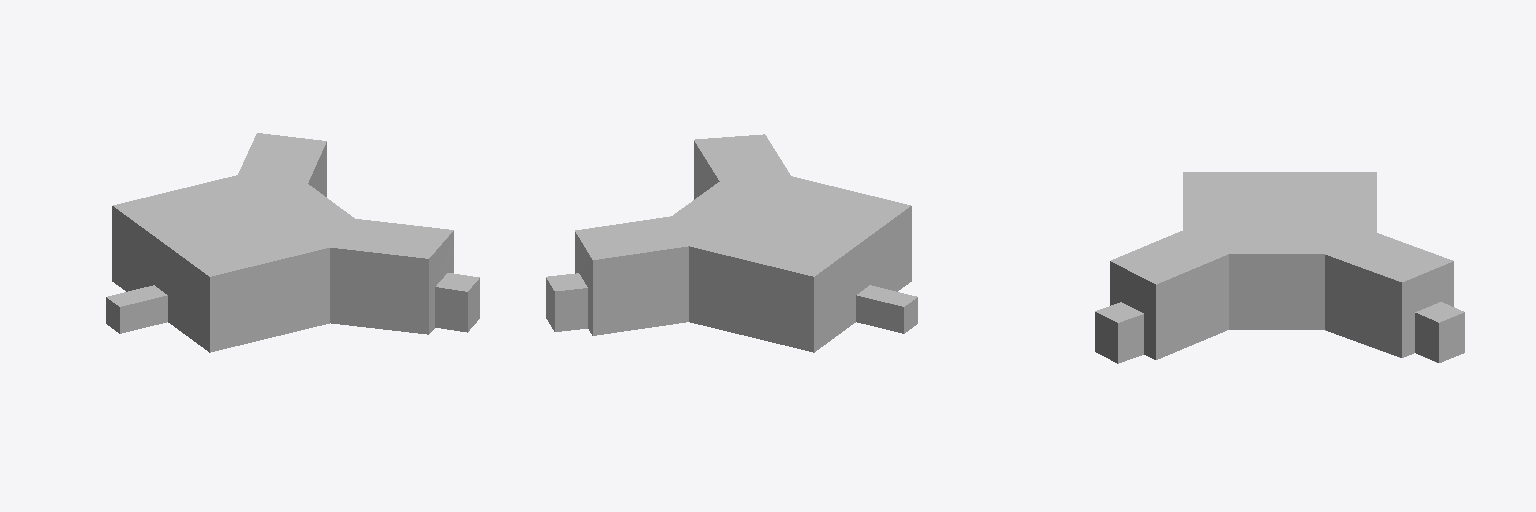
3 views of the same model, side by side, from view 1: azimuth 30°, elevation 25°; view 2: azimuth 150°, elevation 25°; view 3: azimuth 270°, elevation 25° (orthographic).
Parts seen in each view (by area): view 1: Plane; view 2: Plane; view 3: Plane.
Part boxes in pixels (x1,y1,x2,y2): Plane: (106, 133, 479, 352); Plane: (546, 134, 917, 352); Plane: (1095, 172, 1464, 363).
Bounding box in the file's own units: 0.1188 × 0.03 × 0.133.